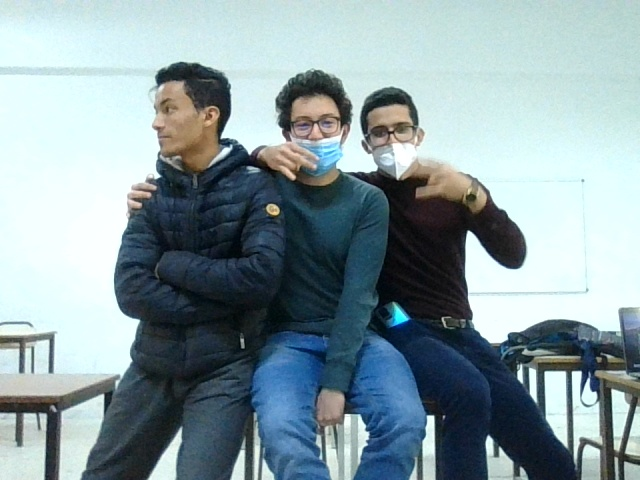mask_weared_incorrect: (276, 67, 357, 178), (357, 88, 428, 188)
without_mask: (142, 67, 233, 166)
